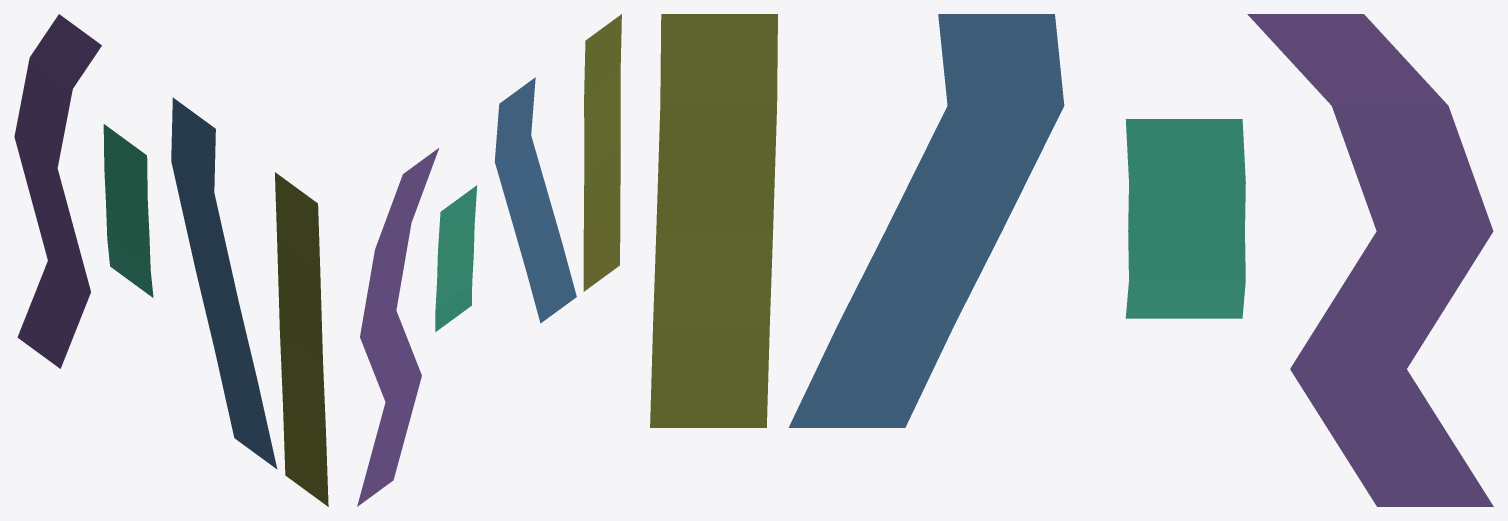
File: Grama2d.fbx
The picture shows the model from 3 angles, left to right: view 1: azimuth 30°, elevation 25°; view 2: azimuth 150°, elevation 25°; view 3: azimuth 270°, elevation 25°; orthographic projection. The views are drawn at different scales.
Visible parts, largest first — view 1: Plane.004, Plane.006, Plane.003, Plane.001; view 2: Plane.004, Plane.003, Plane.006, Plane.001; view 3: Plane.004, Plane.006, Plane.003, Plane.001.
Boxes of the visible parts, <box> form: Plane.004: <box>14,14,101,368</box>; Plane.006: <box>171,97,277,469</box>; Plane.003: <box>275,172,328,506</box>; Plane.001: <box>103,124,153,297</box>; Plane.004: <box>357,148,438,506</box>; Plane.003: <box>583,14,621,291</box>; Plane.006: <box>494,77,576,323</box>; Plane.001: <box>435,185,477,331</box>; Plane.004: <box>1247,14,1493,506</box>; Plane.006: <box>788,14,1064,427</box>; Plane.003: <box>650,14,777,427</box>; Plane.001: <box>1125,119,1245,318</box>.
Size of the model in its own units: 0.7701 by 39.05 by 61.12.
